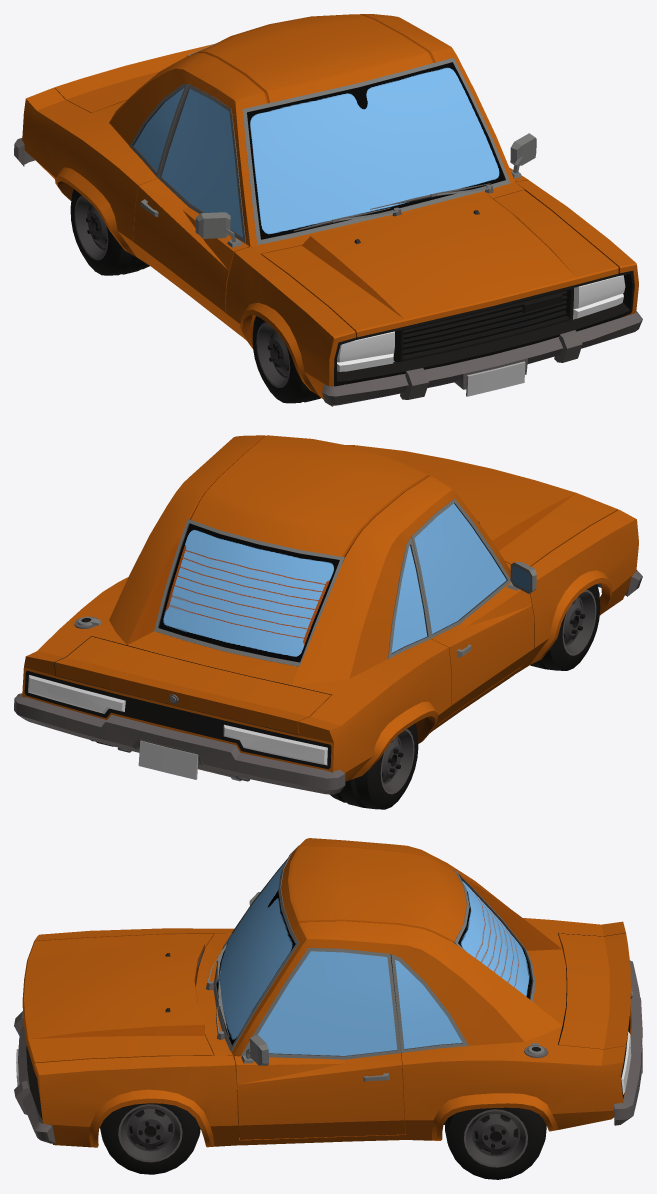
File: Car_Finished.fbx
The picture shows the model from 3 angles, top to bottom: view 1: azimuth 30°, elevation 25°; view 2: azimuth 150°, elevation 25°; view 3: azimuth 270°, elevation 25°; orthographic projection. The views are drawn at different scales.
Parts seen in each view (by area): view 1: Body, Bonet, Doors_R, Grill_F, Fender_FR, Bumper_F, BootLid, Wheel_RR, Wheel_FR, Fender_FL, HeadlightGlass_FR, HeadlightGlass_FL (+2 smaller); view 2: Body, Doors_R, BootLid, Bonet, Bumper_R, Fender_FR, Wheel_RR, Wheel_FR, HeadlightGlass_RR, HeadlightGlass_RL; view 3: Body, Doors_L, Bonet, Fender_FL, BootLid, Wheel_RL, Wheel_FL, Bumper_R, Bumper_F, Fender_FR, WindshieldWipers.
Part boxes in pixels (x1,y1,x2,y2): Body: [22, 14, 524, 336]; Bonet: [261, 190, 618, 337]; Doors_R: [133, 84, 249, 329]; Grill_F: [334, 271, 634, 385]; Fender_FR: [225, 247, 356, 406]; Bumper_F: [322, 311, 642, 405]; BootLid: [54, 44, 213, 112]; Wheel_RR: [70, 189, 149, 275]; Wheel_FR: [252, 316, 341, 403]; Fender_FL: [515, 180, 638, 316]; HeadlightGlass_FR: [337, 331, 394, 371]; HeadlightGlass_FL: [573, 275, 625, 319]; Body: [22, 435, 520, 781]; Doors_R: [411, 498, 536, 723]; BootLid: [54, 636, 331, 734]; Bonet: [354, 445, 618, 566]; Bumper_R: [14, 693, 345, 794]; Fender_FR: [516, 509, 638, 673]; Wheel_RR: [330, 723, 418, 809]; Wheel_FR: [530, 584, 600, 670]; HeadlightGlass_RR: [223, 724, 327, 765]; HeadlightGlass_RL: [28, 675, 125, 713]; Body: [195, 838, 631, 1145]; Doors_L: [234, 948, 405, 1139]; Bonet: [22, 933, 213, 1066]; Fender_FL: [33, 1055, 239, 1147]; BootLid: [558, 933, 632, 1049]; Wheel_RL: [445, 1107, 546, 1179]; Wheel_FL: [100, 1103, 200, 1174]; Bumper_R: [614, 960, 642, 1125]; Bumper_F: [14, 1011, 55, 1143]; Fender_FR: [34, 928, 233, 941]; WindshieldWipers: [206, 944, 229, 1039].
Bounding box in the file's own units: 135 × 94.48 × 229.
